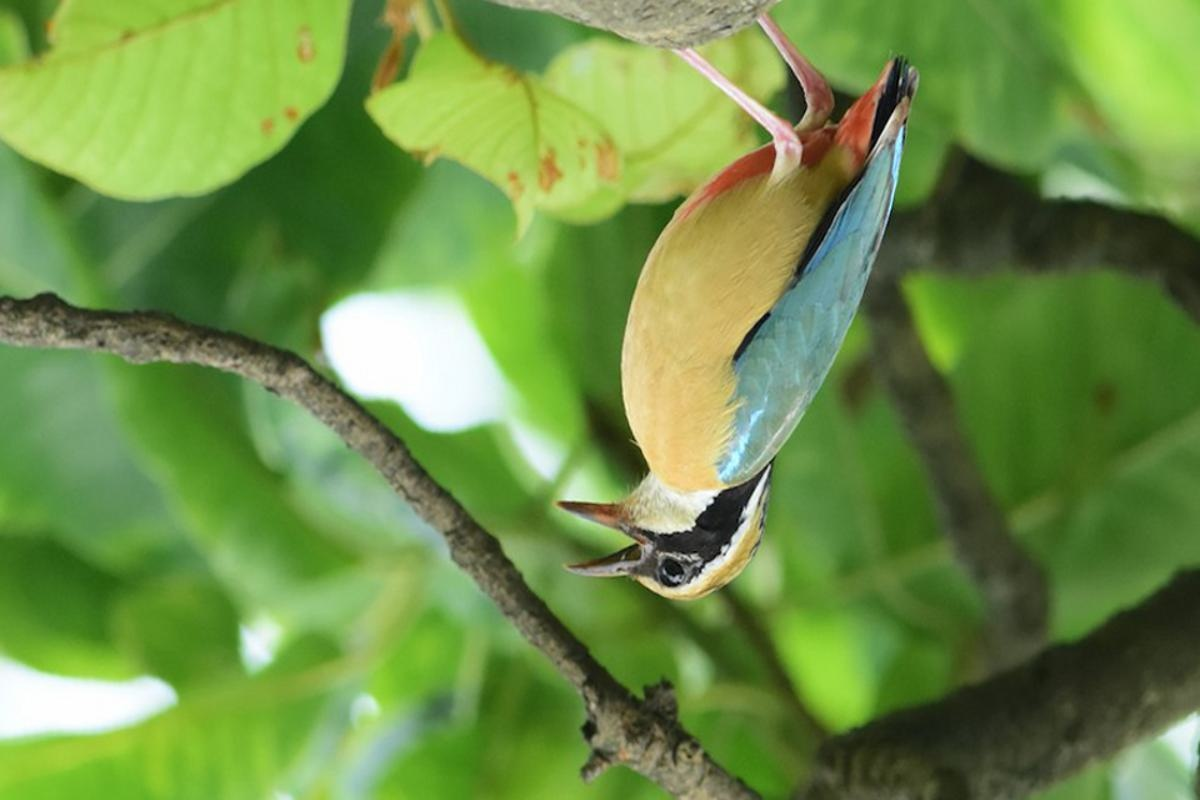pitta: (563, 63, 935, 608)
